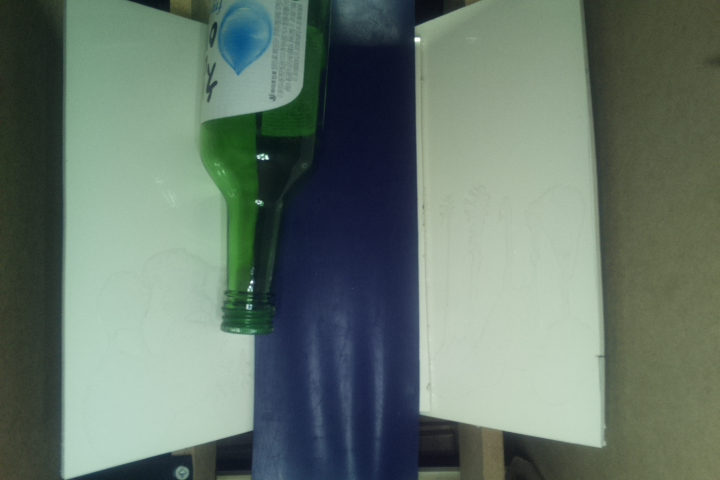soju: (195, 1, 337, 339)
